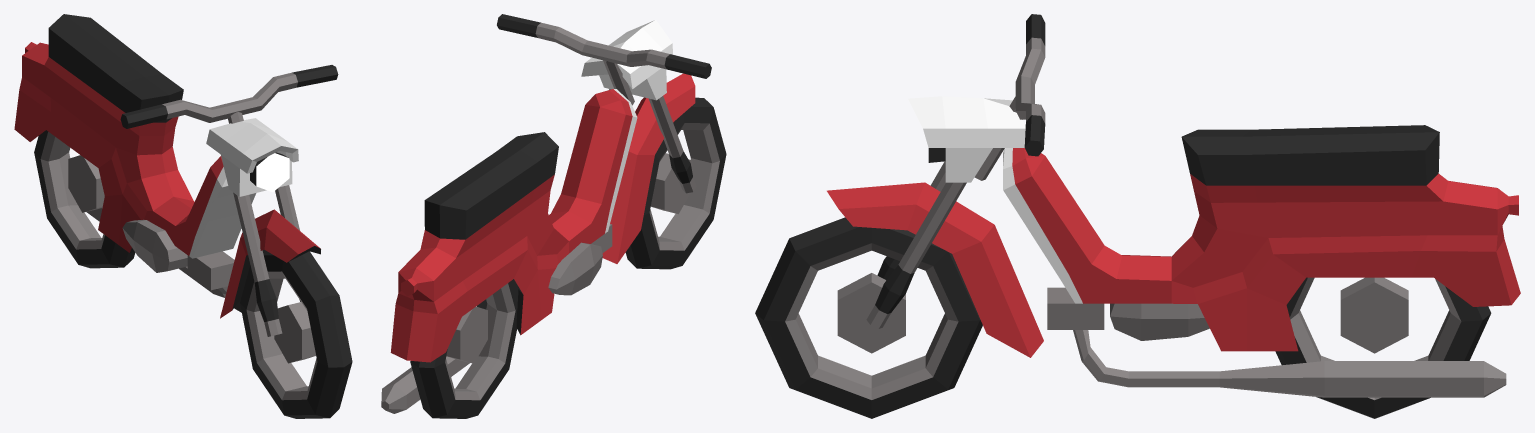
File: vehicles_motorbike-old.fbx
3 views of the same model, side by side, from view 1: azimuth 30°, elevation 25°; view 2: azimuth 150°, elevation 25°; view 3: azimuth 270°, elevation 25° (orthographic). The views are drawn at different scales.
Visible parts, largest first — view 1: vehicles_motorbike_old; view 2: vehicles_motorbike_old; view 3: vehicles_motorbike_old.
Boxes of the visible parts, x1=… form: vehicles_motorbike_old: x1=14, y1=14, x2=352, y2=418; vehicles_motorbike_old: x1=381, y1=14, x2=726, y2=418; vehicles_motorbike_old: x1=755, y1=14, x2=1520, y2=418.
Size of the model in its own units: 77.11 by 98.74 by 200.
